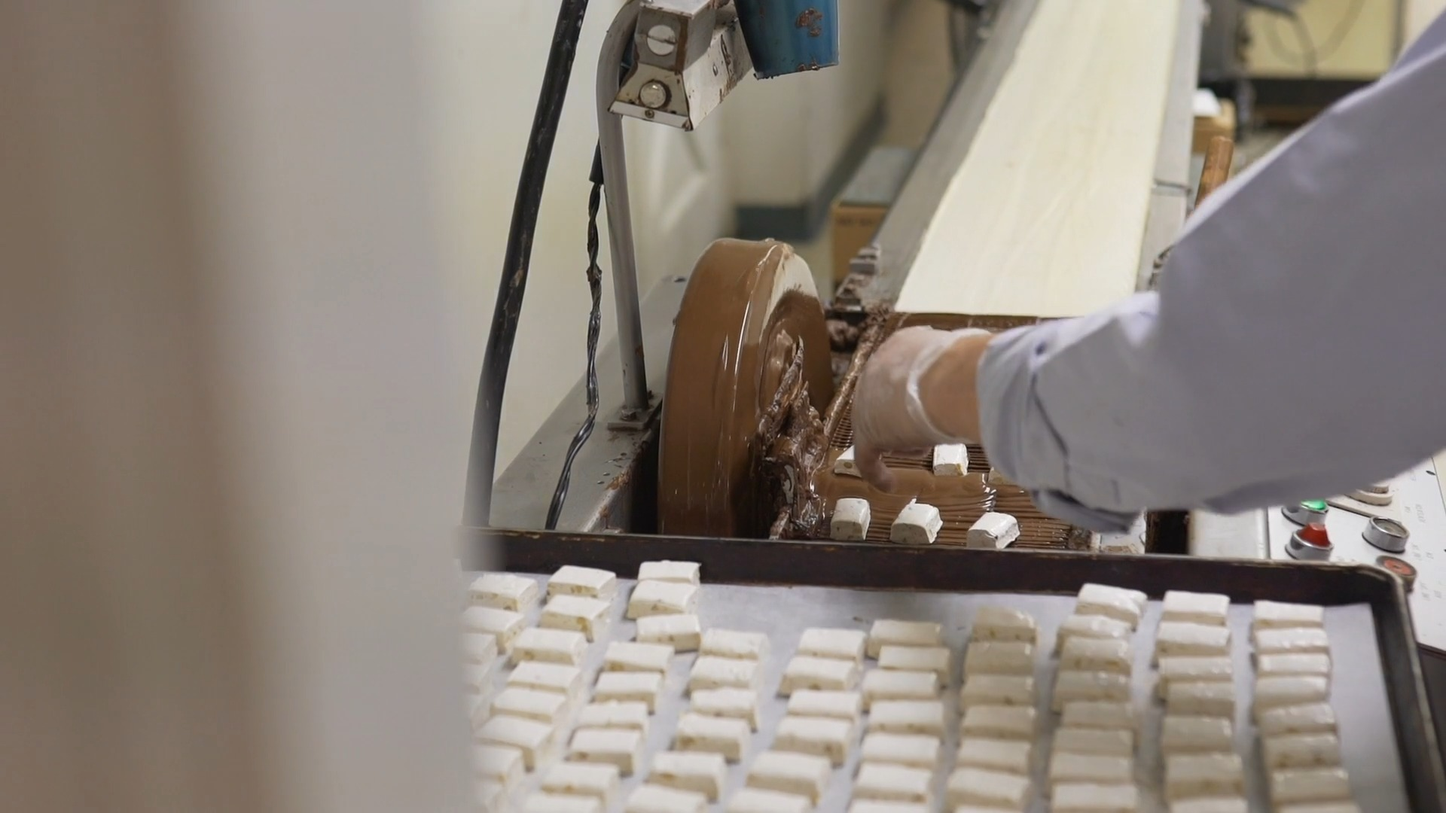gloves: (831, 304, 1013, 484)
